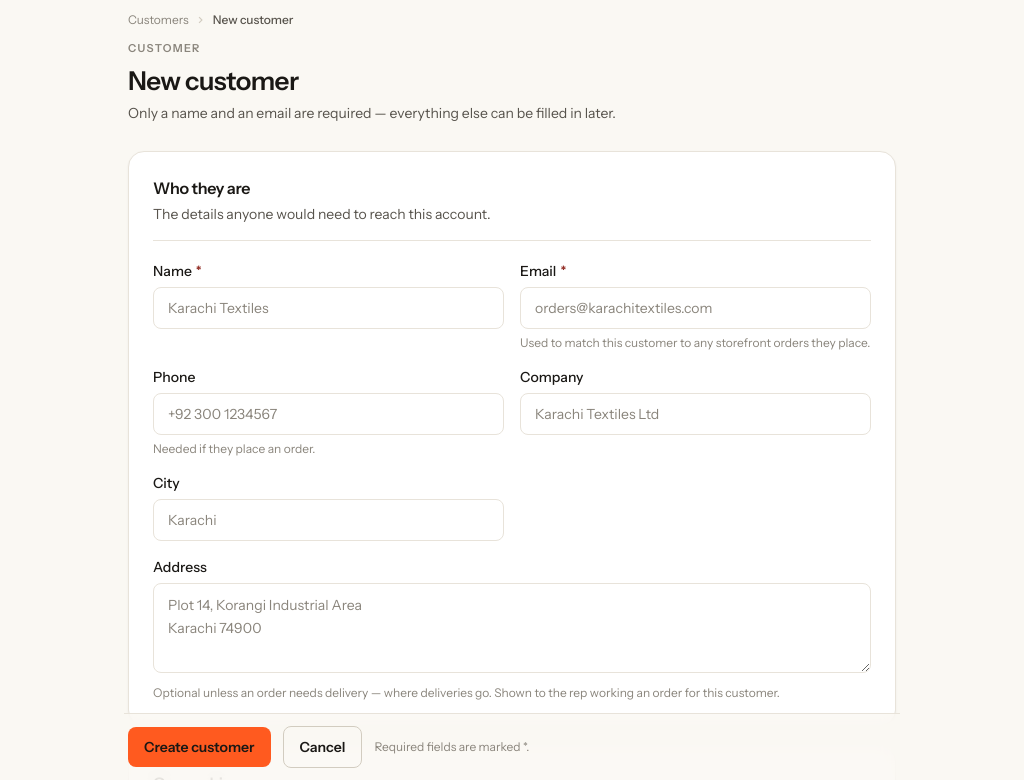
Test case: CustomerForm › creating › re-enables the submit button after a failure
Type "Acme" into the field labelled "Name*" at [328, 308], box [153,287,504,329]
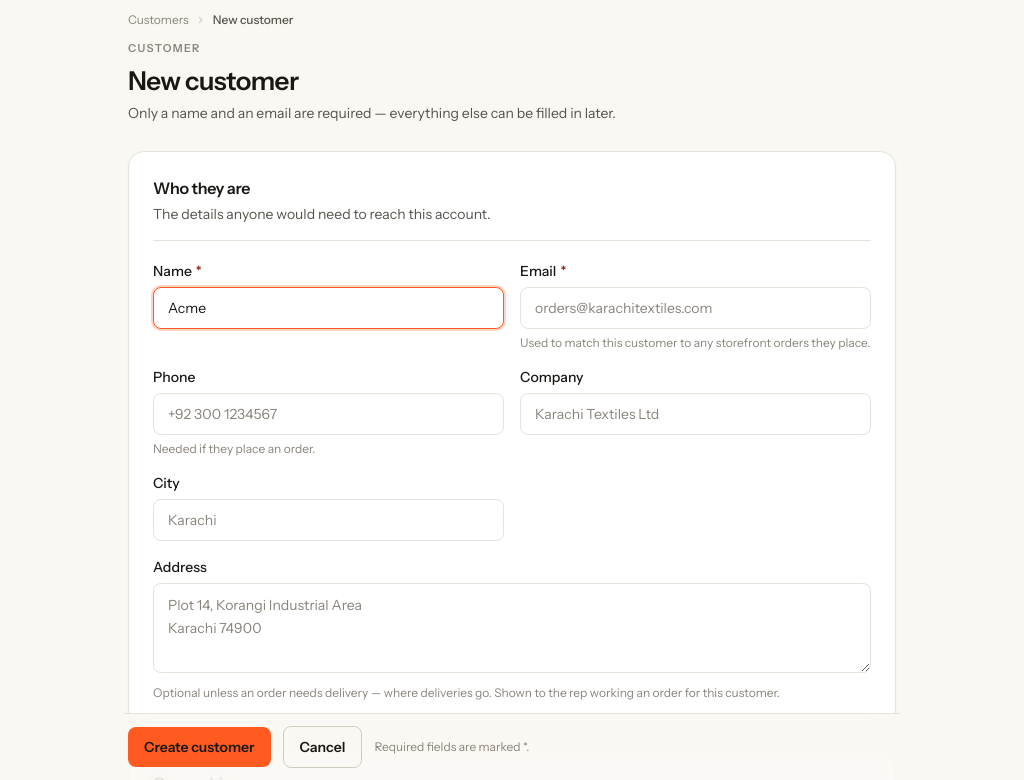
Type "a@b.co" into the field labelled "Email*" at [696, 308], box [520,287,871,329]
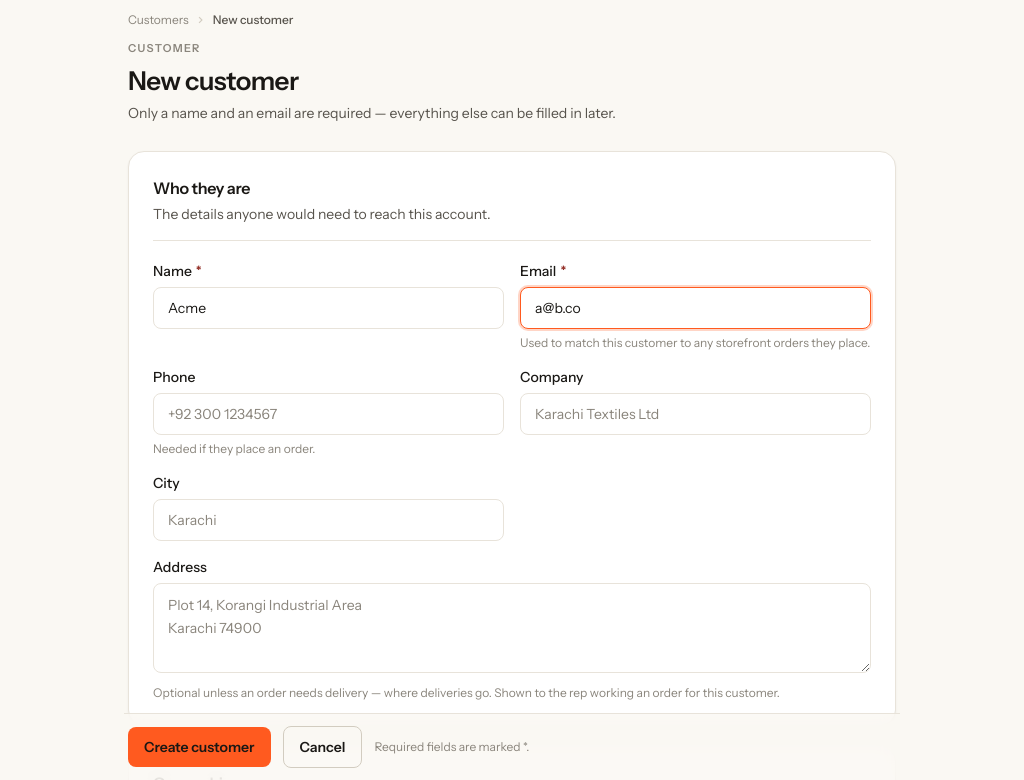
Click the button "Create customer" at [199, 747], box [128,727,270,767]
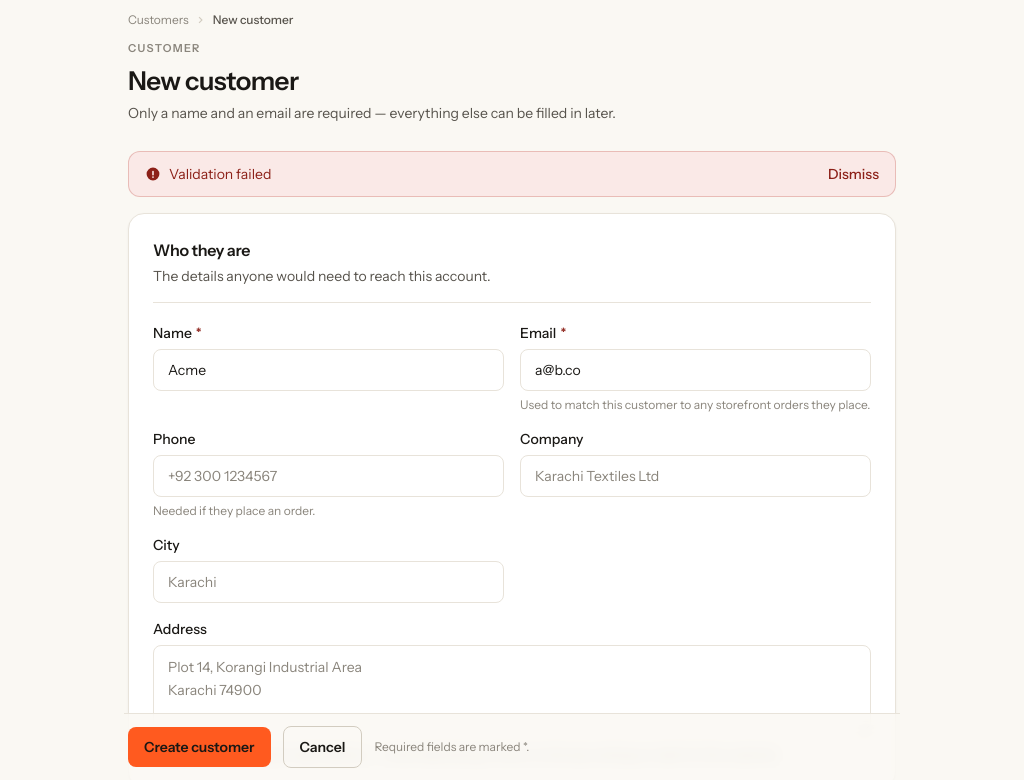
Check: the text "Validation failed" is shown, box [145,164,271,184]
